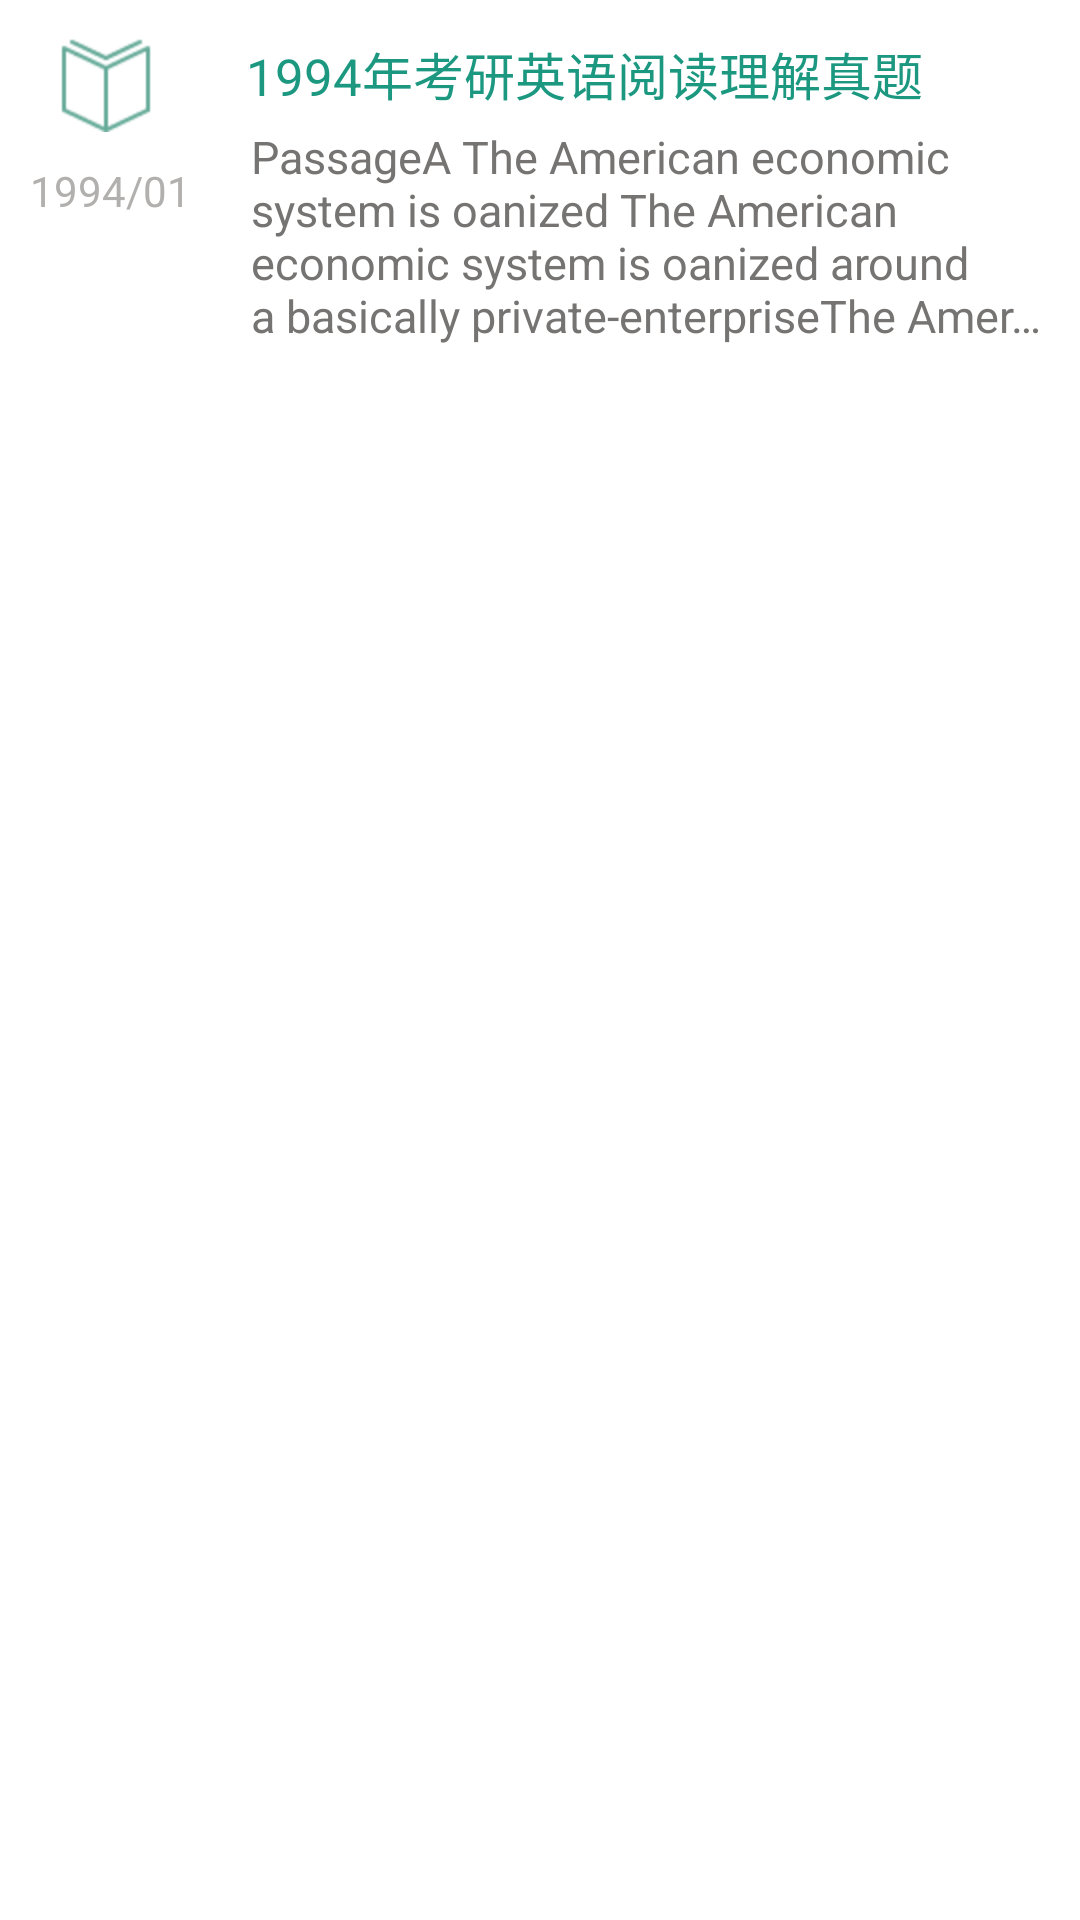

Where to tap for icons on this 1080×1920 app screen, as [x,y]:
listview reading: [106,85]
